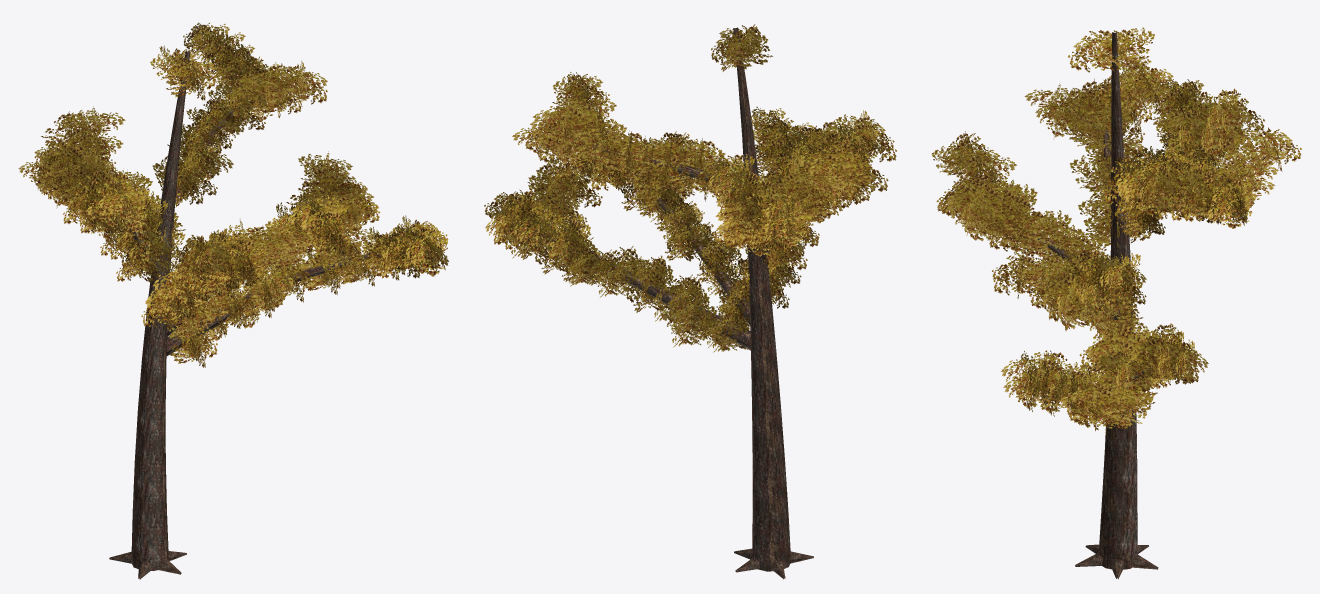
Rendered from tree_3d_04_yellow_lod0.glb.
The picture shows the model from 3 angles, left to right: view 1: azimuth 30°, elevation 25°; view 2: azimuth 150°, elevation 25°; view 3: azimuth 270°, elevation 25°; orthographic projection. The views are drawn at different scales.
Parts seen in each view (by area): view 1: foliage_cards, wood_geometry; view 2: foliage_cards, wood_geometry; view 3: foliage_cards, wood_geometry.
Part boxes in pixels (box(x1,y1,x2,y2)): foliage_cards: box(18, 22, 448, 367); wood_geometry: box(76, 44, 405, 579); foliage_cards: box(484, 24, 896, 352); wood_geometry: box(515, 27, 813, 579); foliage_cards: box(932, 27, 1301, 434); wood_geometry: box(974, 32, 1266, 579).
Bounding box in the file's own units: 9.37 × 11.59 × 7.14.
2 materials, 2 textured.
